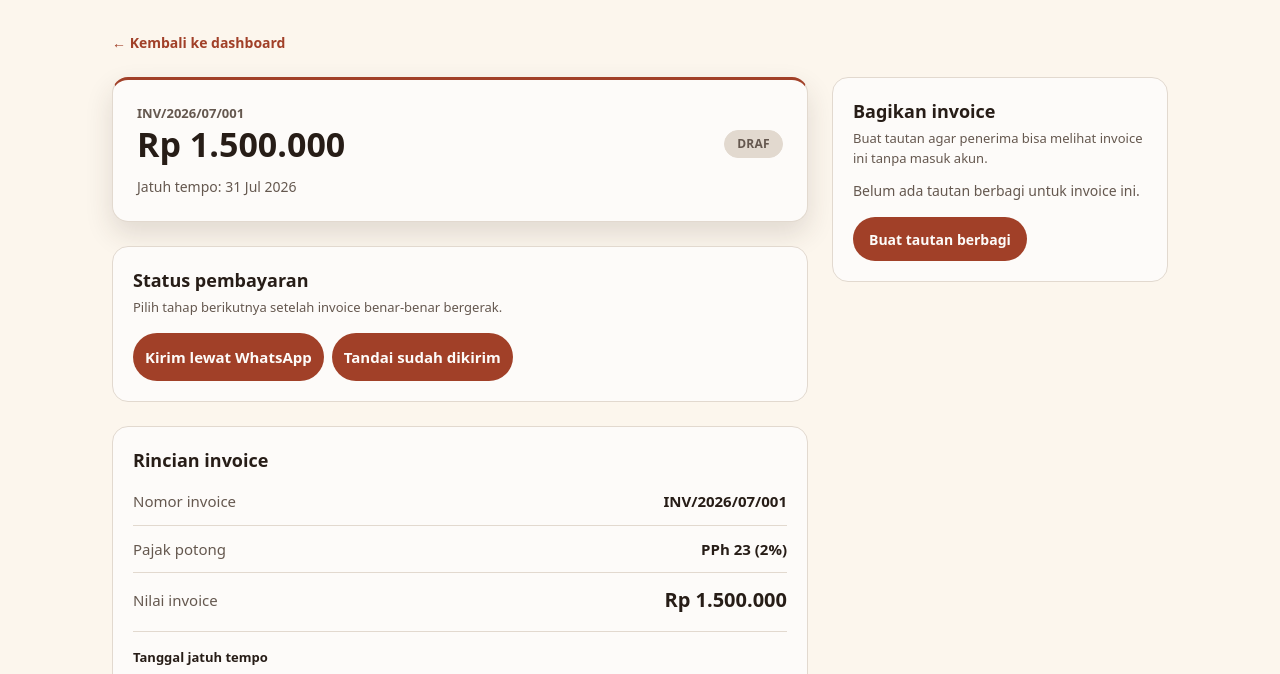
Test case: InvoiceDetailClient › Aksi utama WhatsApp (header) › writes a fixed contact number back to the deal, then sends WhatsApp directly with the repaired number (F15)
The image size is (1280, 674).
Click the button "Kirim lewat WhatsApp". click: (228, 357)
box: [133, 333, 324, 381]
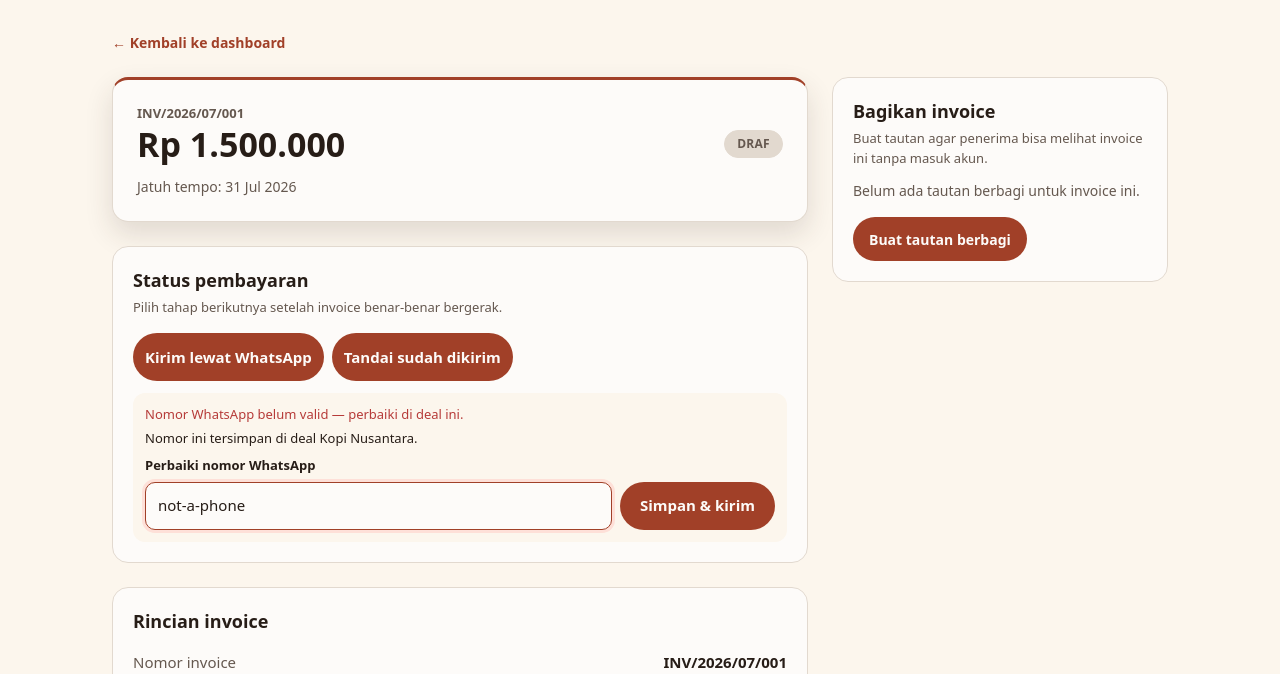
Replace the text in the field labelled "Perbaiki nomor WhatsApp" with "0812-3456-7890". click: (378, 506)
box: [145, 482, 612, 530]
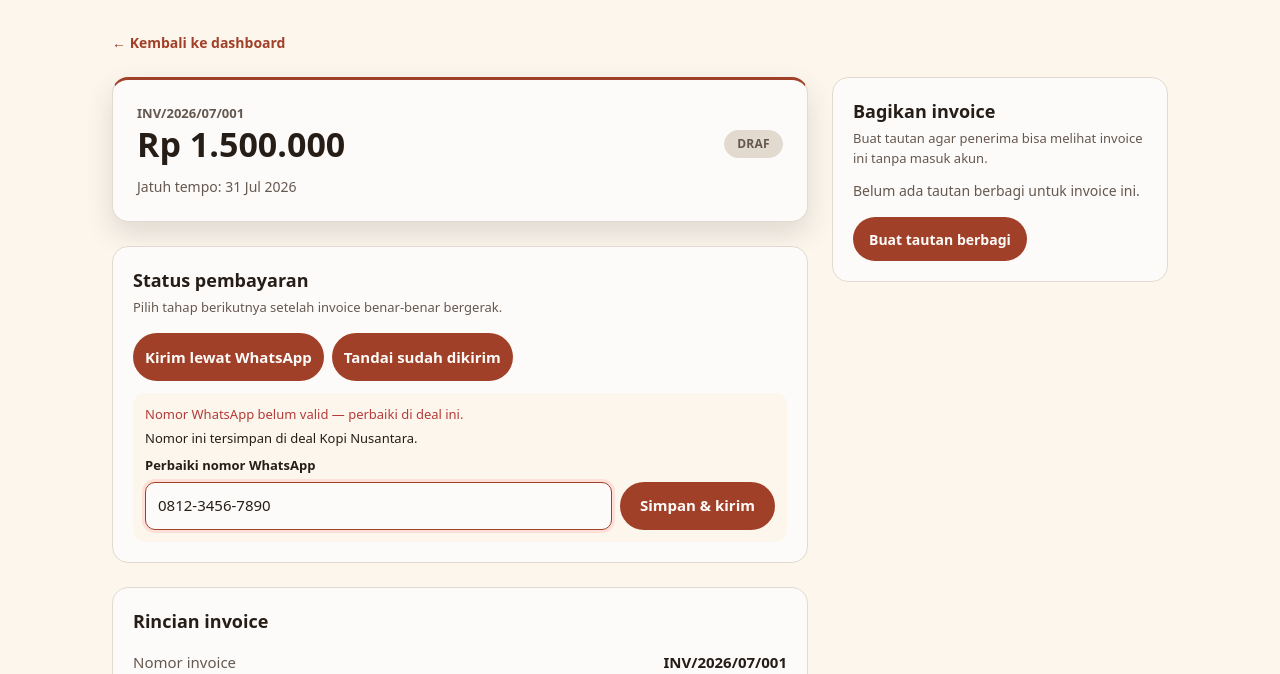
Click the button "Simpan & kirim". click: (698, 506)
box: [620, 482, 775, 530]
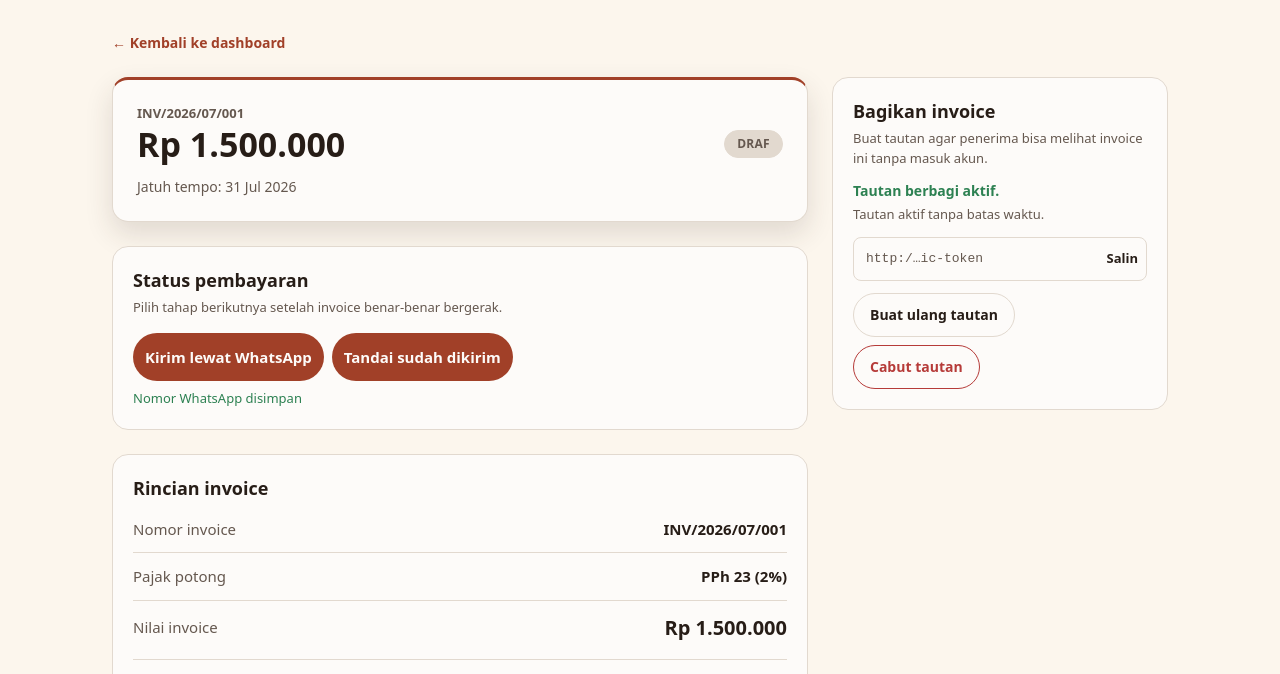
Expected: the button "Kirim lewat WhatsApp" is enabled, [133, 333, 324, 381]
Result: the text "Nomor WhatsApp disimpan" is shown at [133, 389, 302, 407]
Result: the label labelled "Perbaiki nomor WhatsApp" is gone
